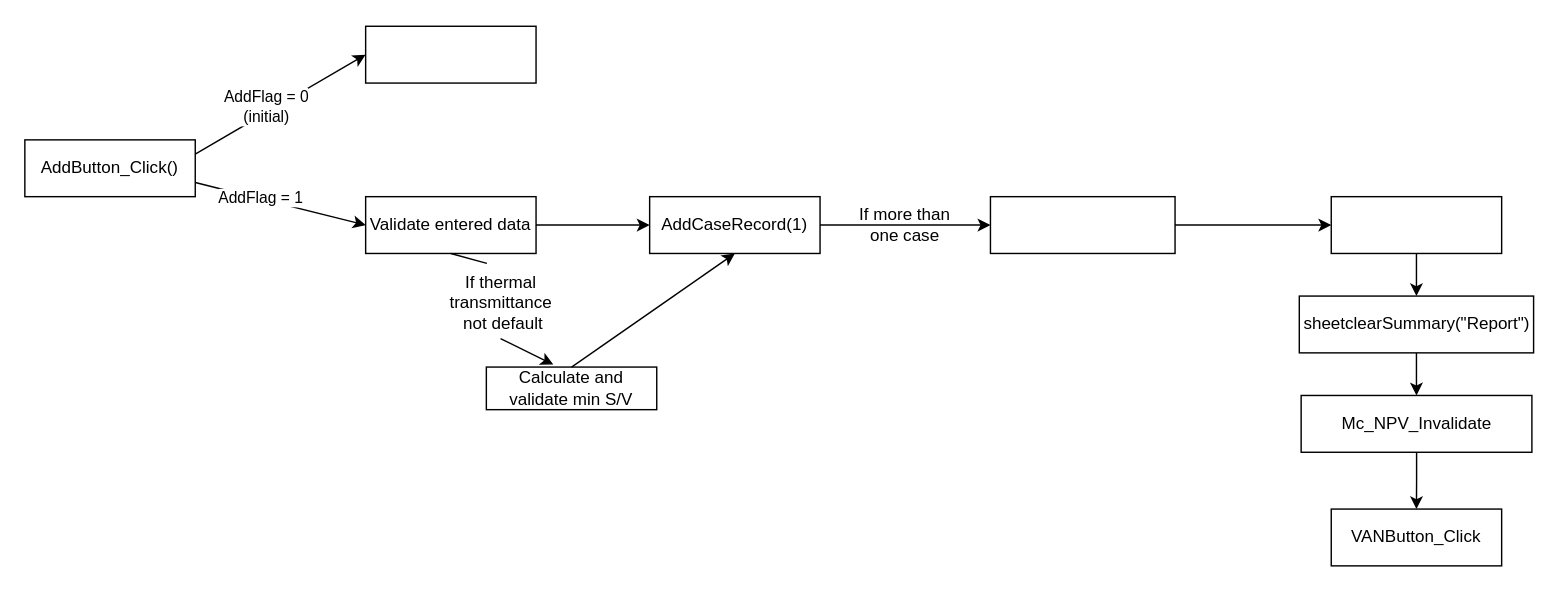
The diagram is 1559 pixels wide and 591 high, and some of its shapes have lost their labels. Here are the shapes that lost their labels. From the top down, the box of each, then its label:
(364, 25, 536, 83): Switch Frames to add new data AddFlag = 1
(989, 195, 1175, 253): Switch to last added case
(1330, 195, 1502, 253): Switch Frames back with details button
